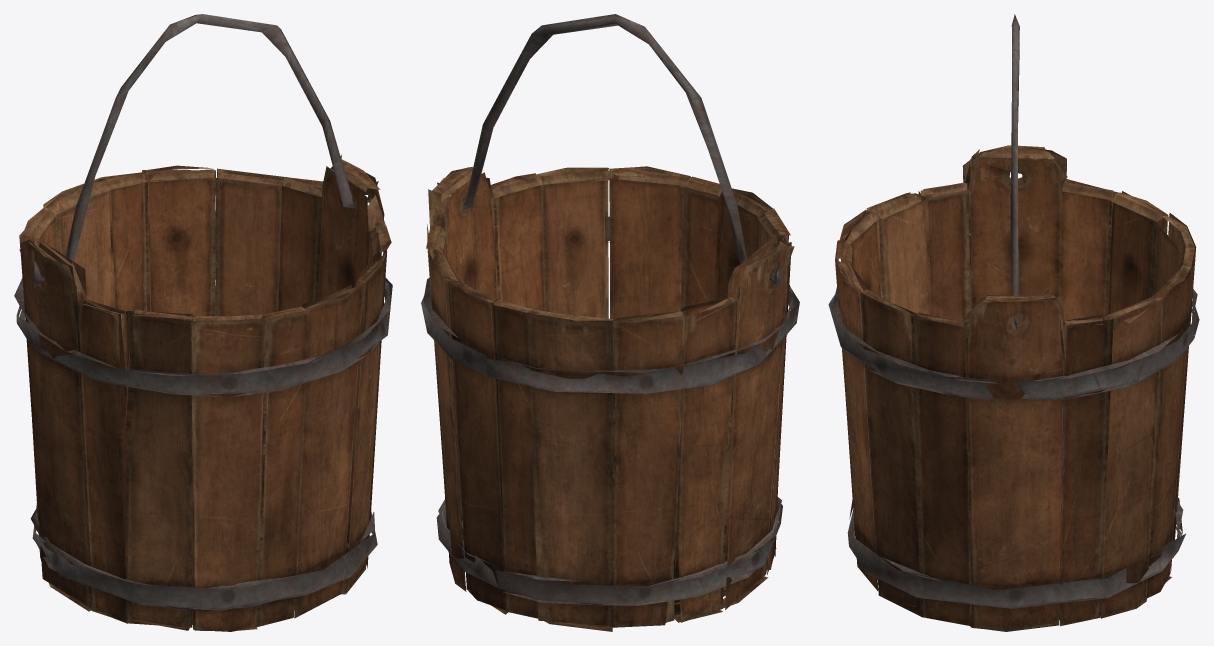
Rendered from ph_wooden_bucket.fbx.
3 views of the same model, side by side, from view 1: azimuth 30°, elevation 25°; view 2: azimuth 150°, elevation 25°; view 3: azimuth 270°, elevation 25° (orthographic). The views are drawn at different scales.
Parts seen in each view (by area): view 1: ph_wooden_bucket_LOD0; view 2: ph_wooden_bucket_LOD0; view 3: ph_wooden_bucket_LOD0.
Part boxes in pixels (x1=…): ph_wooden_bucket_LOD0: x1=14, y1=14, x2=392, y2=631; ph_wooden_bucket_LOD0: x1=421, y1=14, x2=799, y2=631; ph_wooden_bucket_LOD0: x1=828, y1=14, x2=1199, y2=631.
Size of what is drawn, in the model's own units: 0.3619 by 0.5547 by 0.3448.
Materials: 1 (1 with a texture image).
